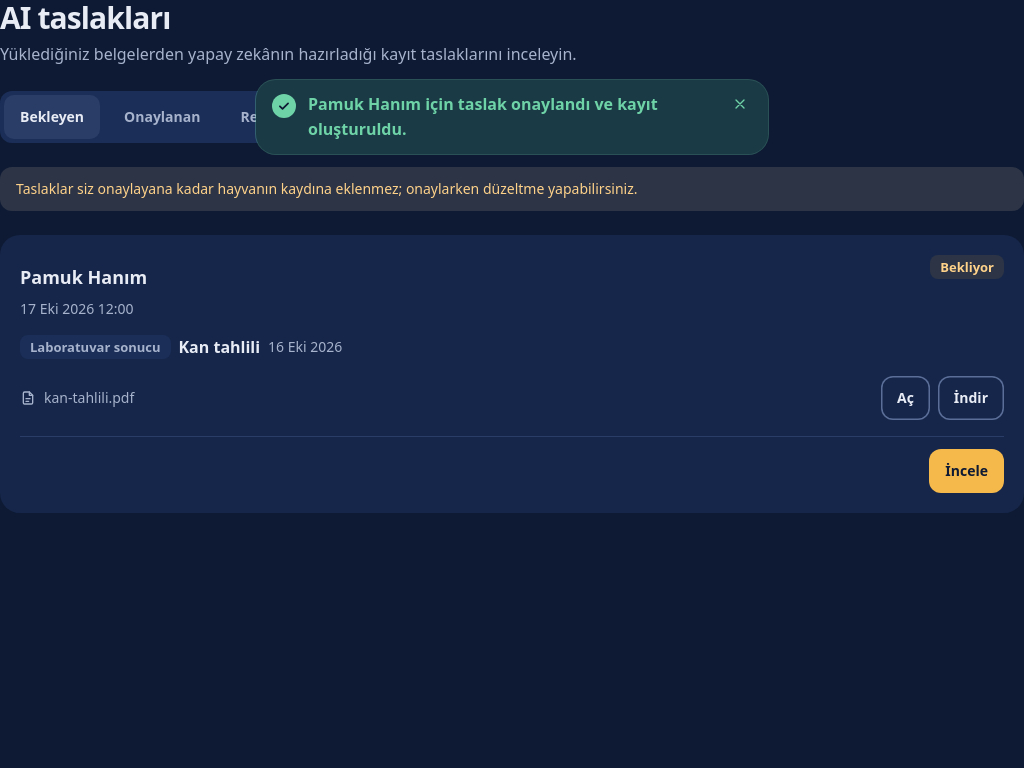
DraftsPage › güven 0.51 iken düşük güven uyarısı görünürlüğü: false
This screenshot has width=1024, height=768.
Click the button "İncele".
click(967, 471)  # box [929, 449, 1004, 493]
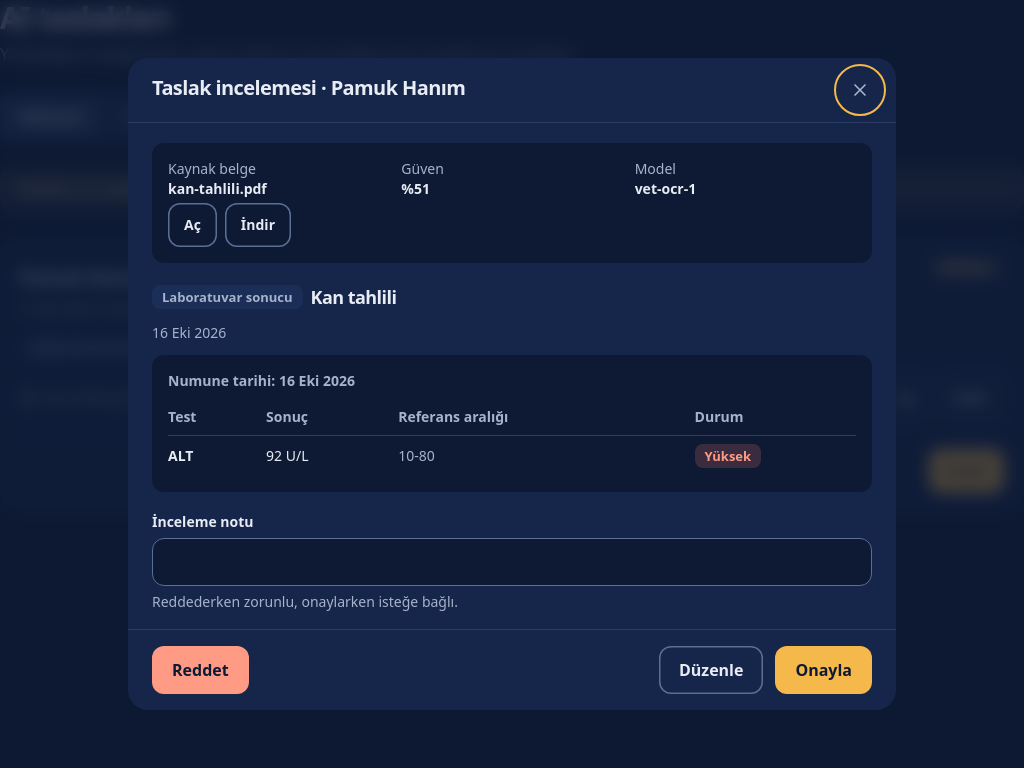
Expected: the button "Onayla" is enabled, [775, 646, 872, 694]
